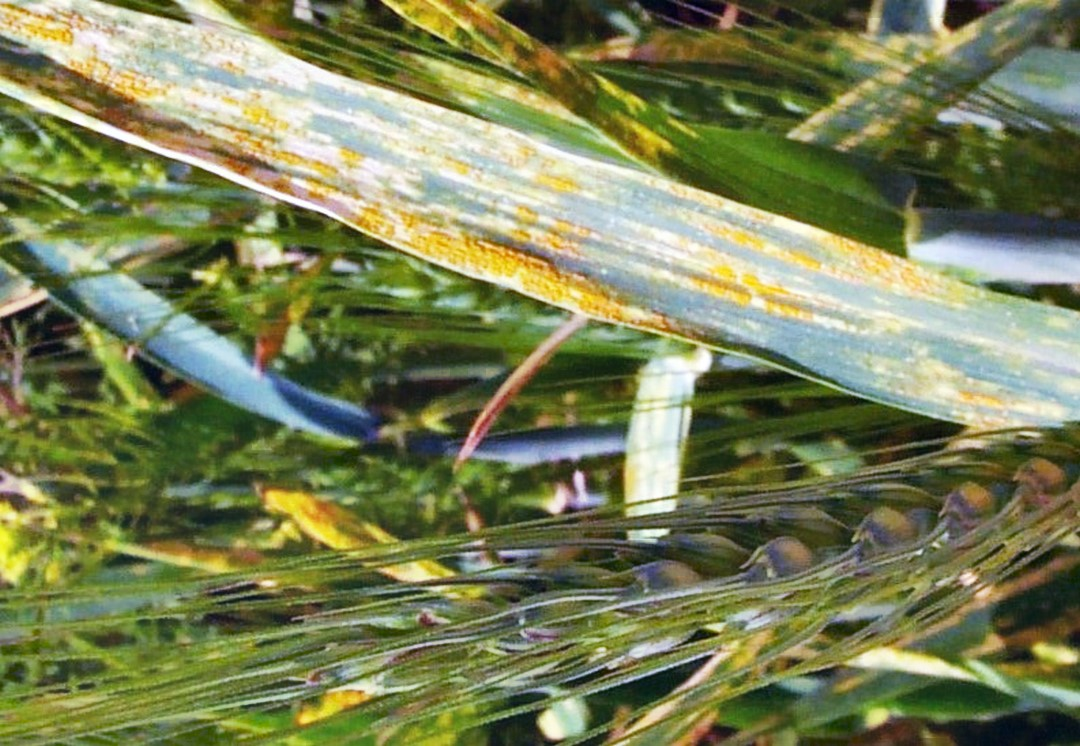Leaf Rust: (45, 25, 709, 335)
